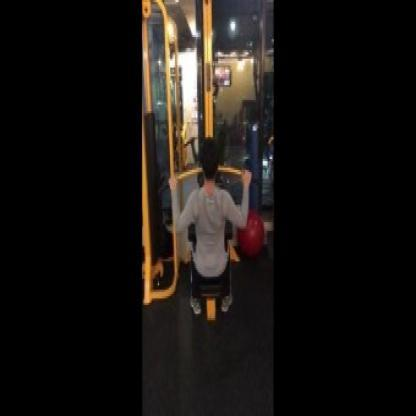Lat Pull Down: (143, 0, 263, 341)
